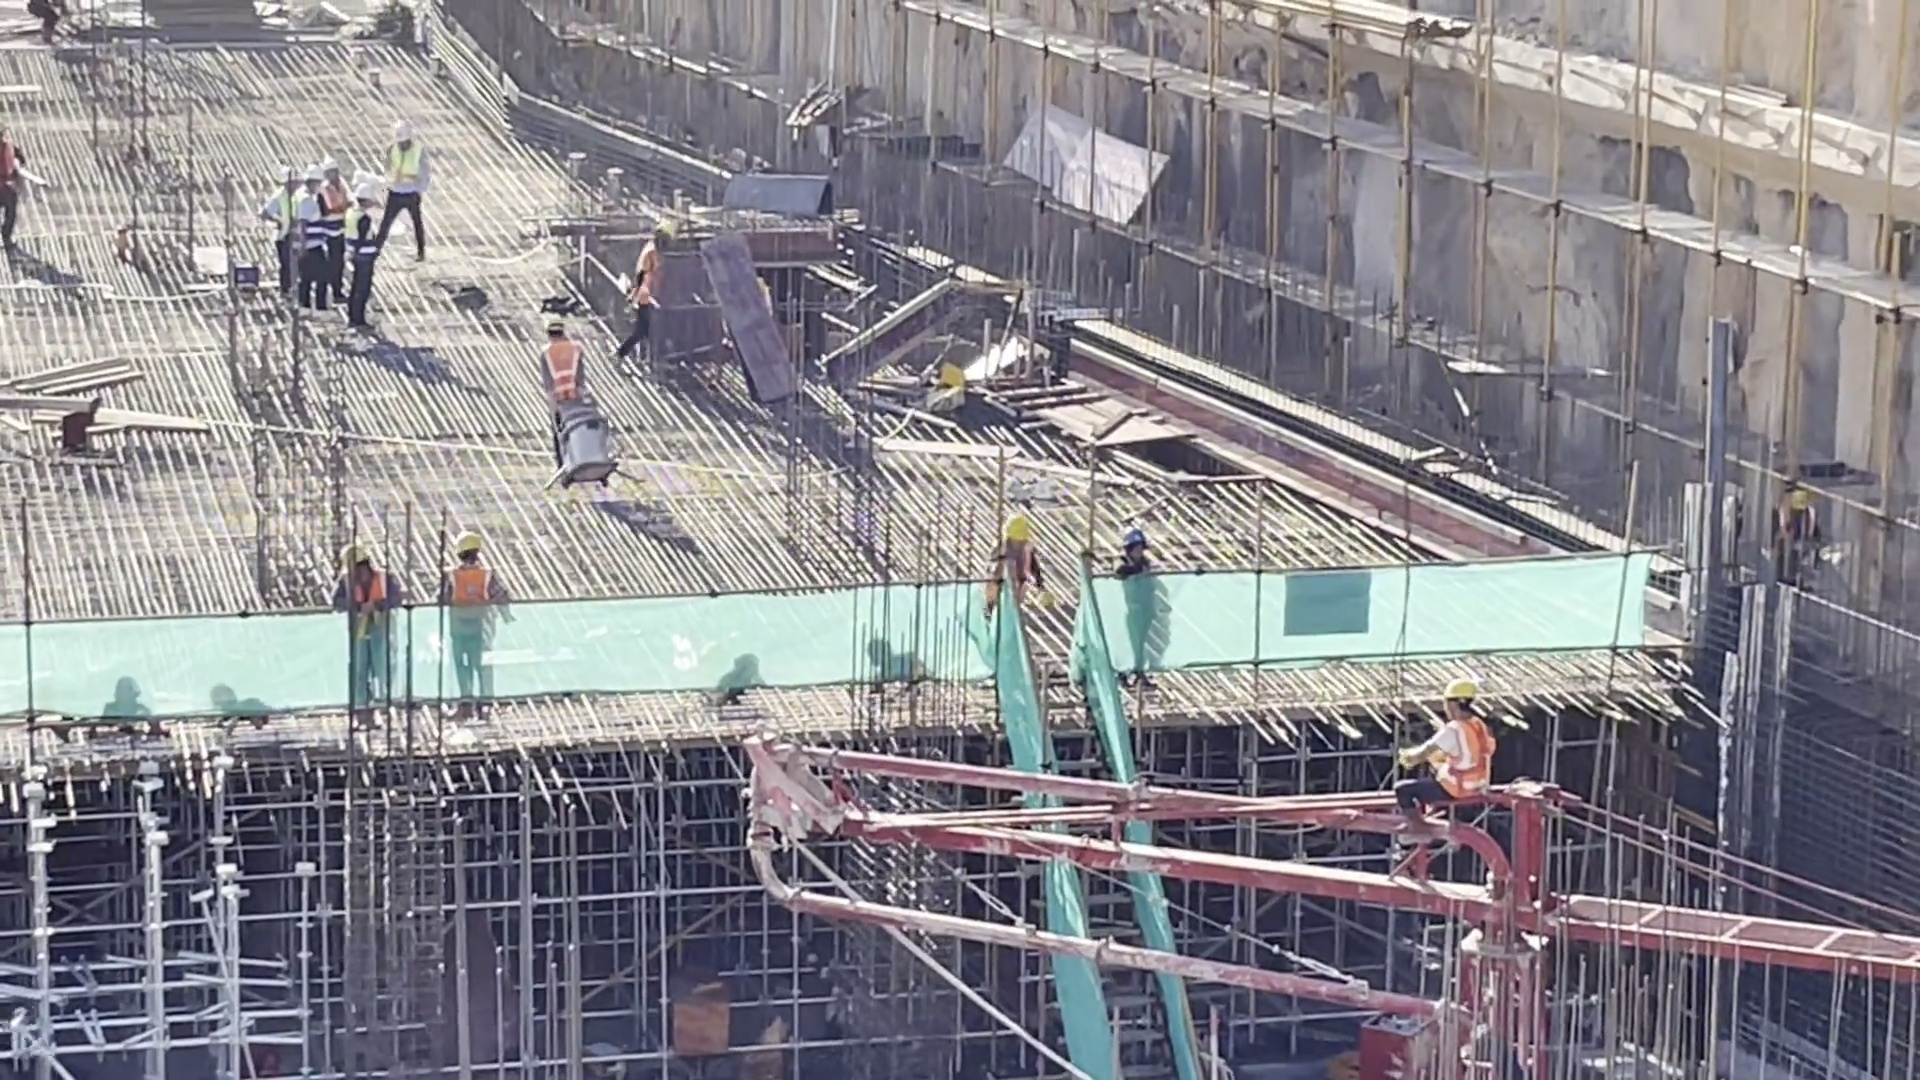helmet: (252, 158, 384, 209), (1108, 512, 1150, 549), (385, 116, 417, 164), (335, 537, 371, 577), (1000, 505, 1033, 547), (446, 534, 492, 555)
person: (259, 145, 377, 341), (1388, 675, 1501, 863), (623, 208, 675, 367), (440, 526, 513, 634), (1105, 531, 1159, 677), (378, 114, 429, 263), (331, 545, 397, 648), (988, 513, 1042, 636), (531, 317, 597, 417)
vest: (1398, 722, 1488, 798), (442, 569, 496, 614)
